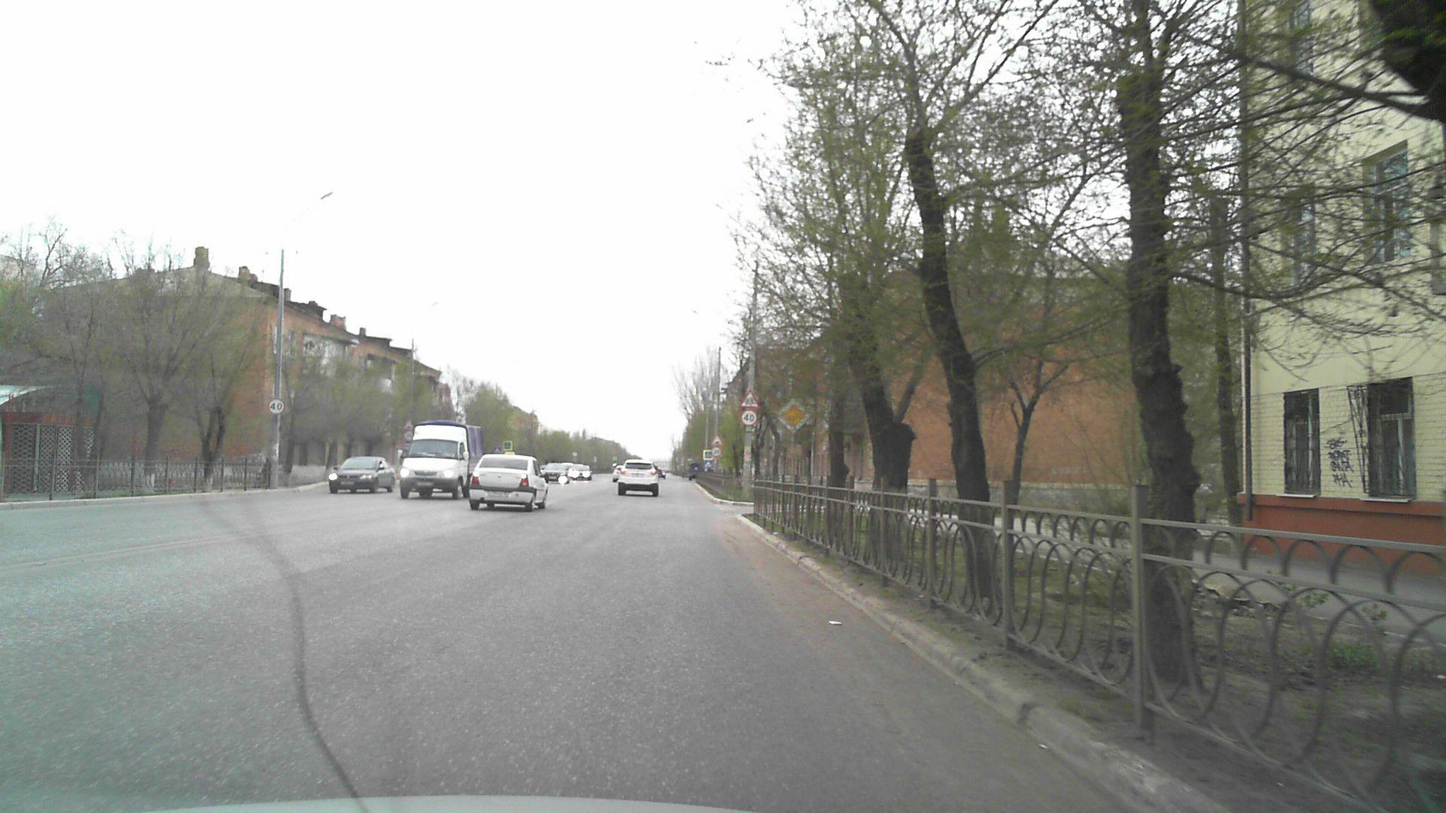road_sign: (775, 394, 813, 434), (736, 388, 762, 409), (738, 407, 761, 428)
